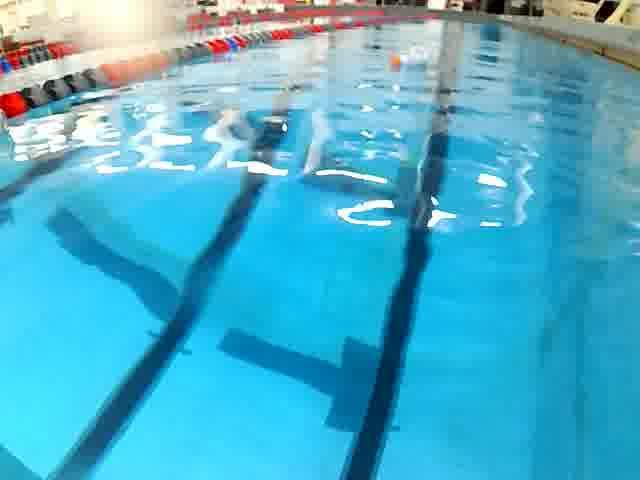Bottle: (386, 45, 450, 75)
